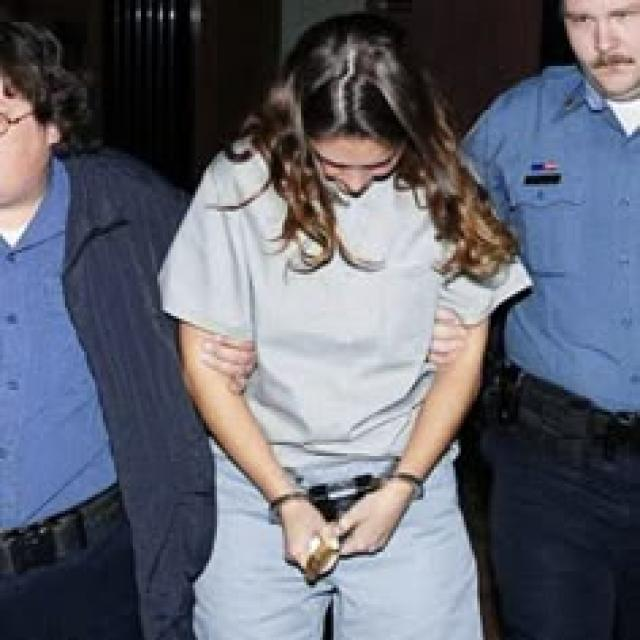9_cabeza_baja: (287, 11, 415, 195)
